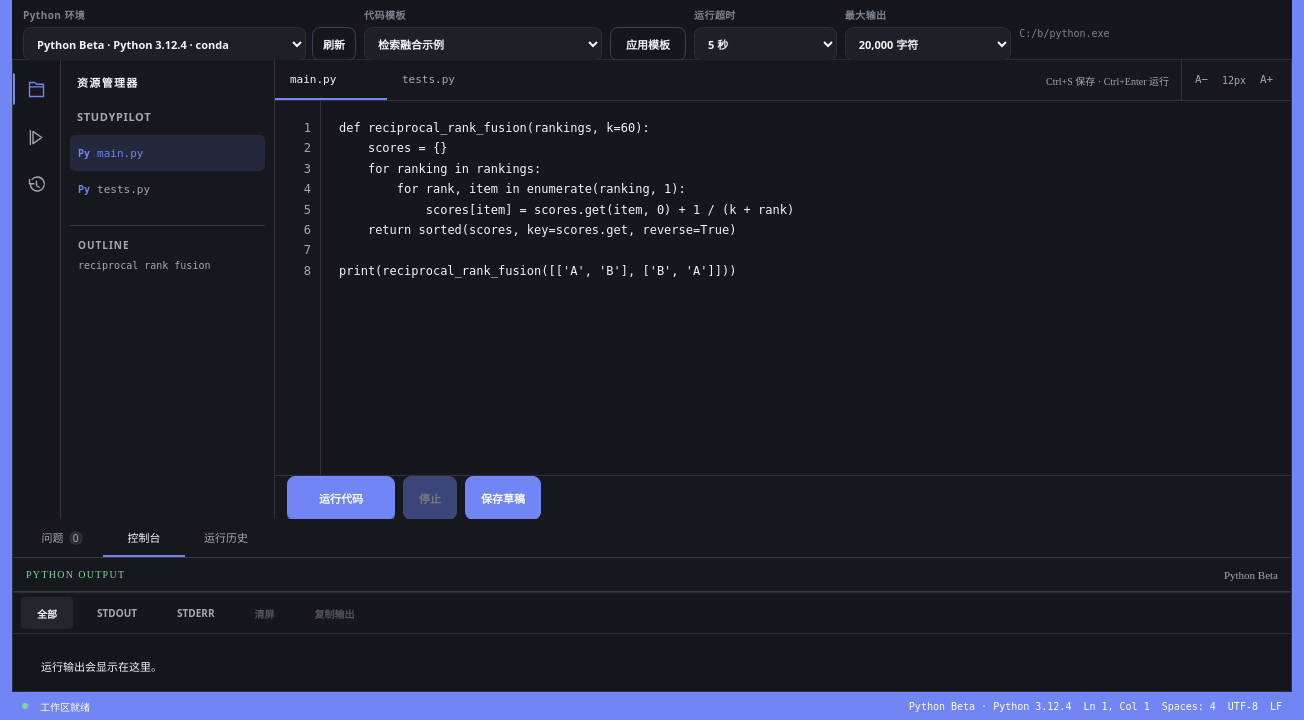
Test: labels terminal and status with the run interpreter snapshot
The width and height of the screenshot is (1304, 720).
Expected: the dropdown labelled "Python 环境" shows "Python Beta · Python 3.12.4 · conda", [23,27,306,61]
Click the button "运行代码" at (341, 498), box [287,476,395,520]
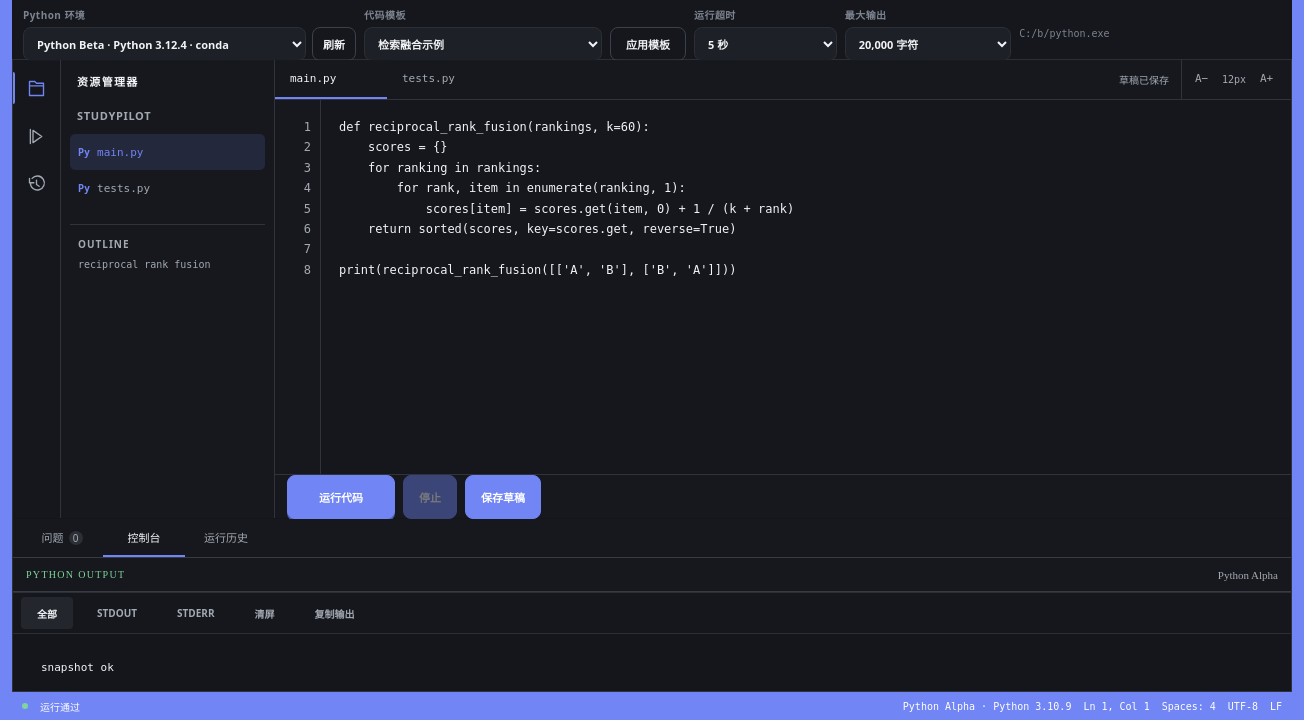
Expected: the text "snapshot ok" is shown, [41,661,114,674]
Expected: the text "Python Alpha" is shown, [1218,569,1278,581]
Expected: the text "Python Alpha · Python 3.10.9" is shown, [903,700,1071,712]
